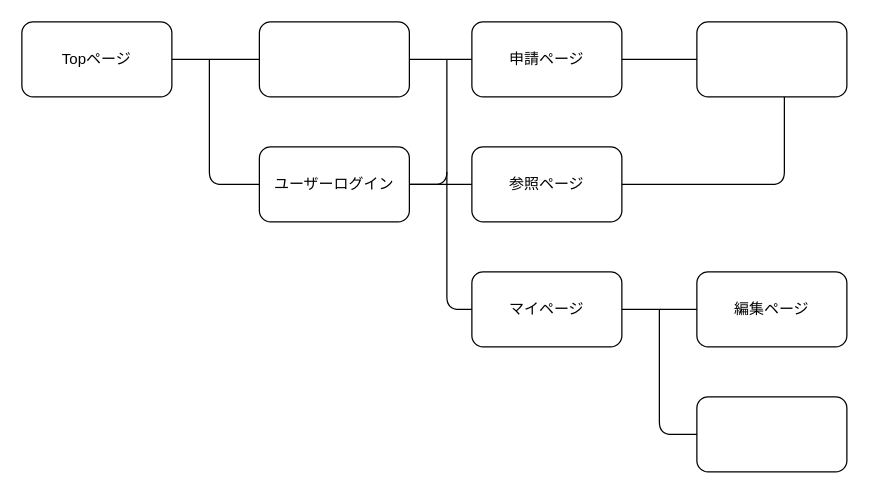
Some shapes in this 869 by 494 pixel diagram are drawn without their labels. The box of each missing label's shape, as (x1, y1, x2, y2) in pixels:
ユーザー新規登録: (258, 21, 409, 97)
削除ページ: (696, 396, 847, 472)
申請完了ページ: (696, 21, 847, 97)
